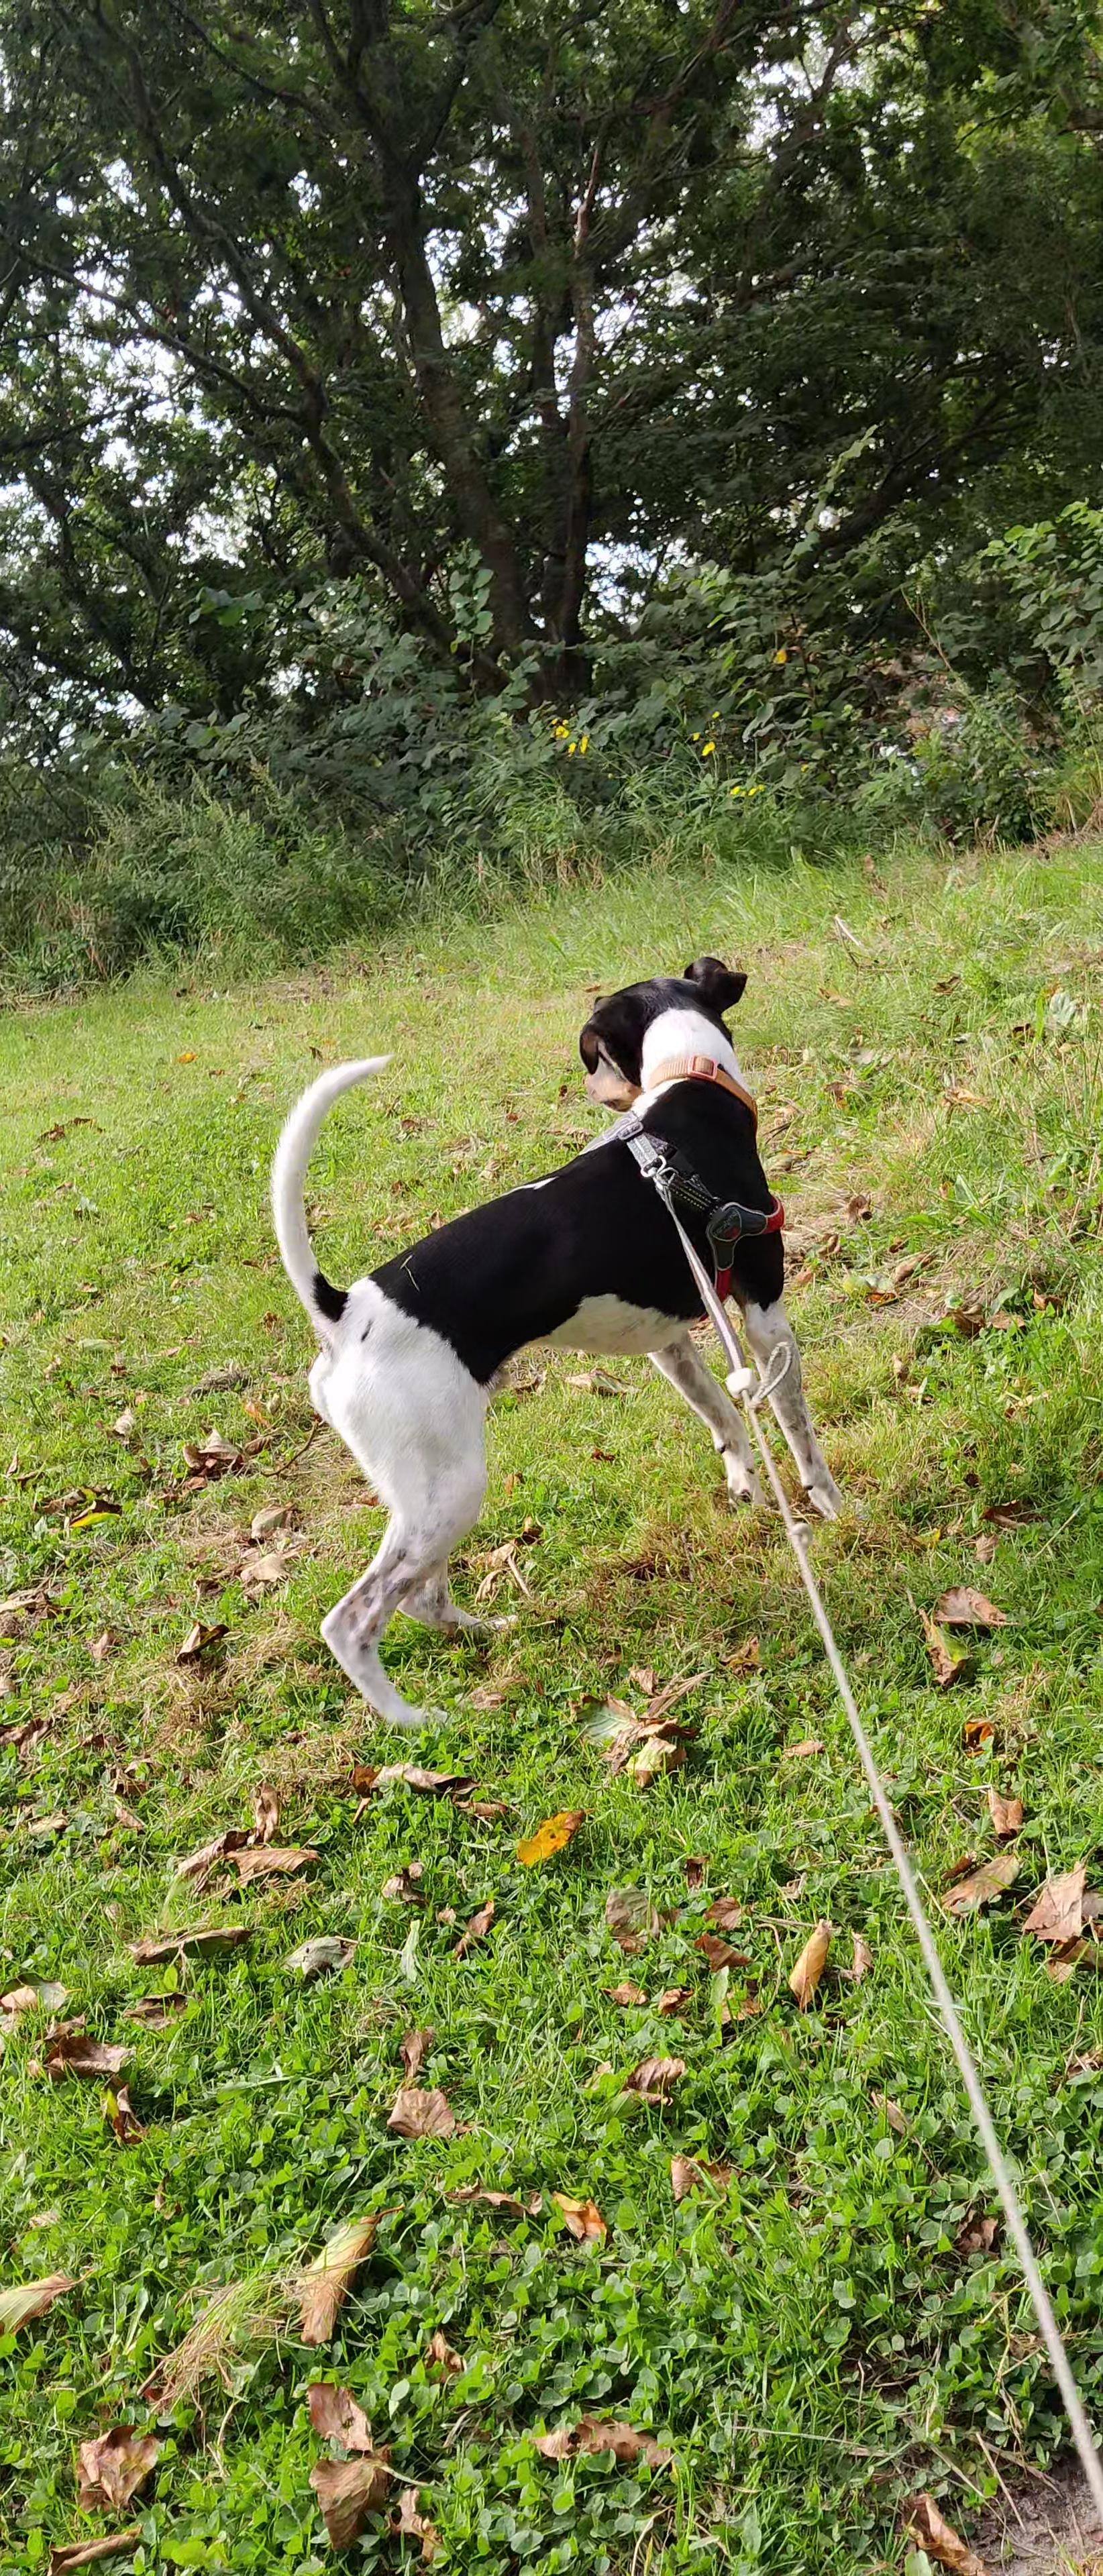Dog: (256, 948, 870, 1735)
